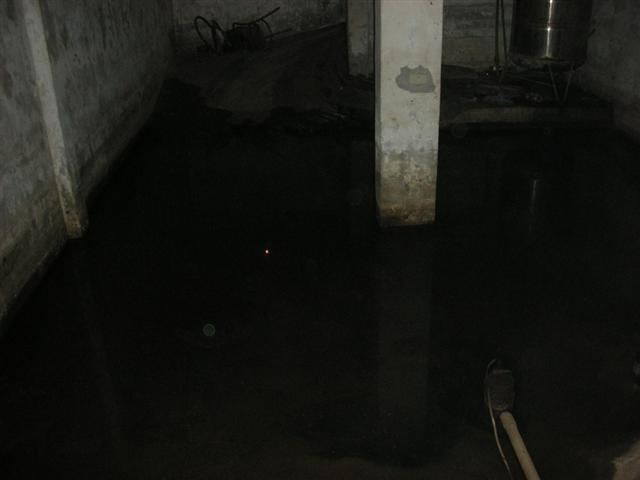water_tower: (505, 1, 593, 101)
